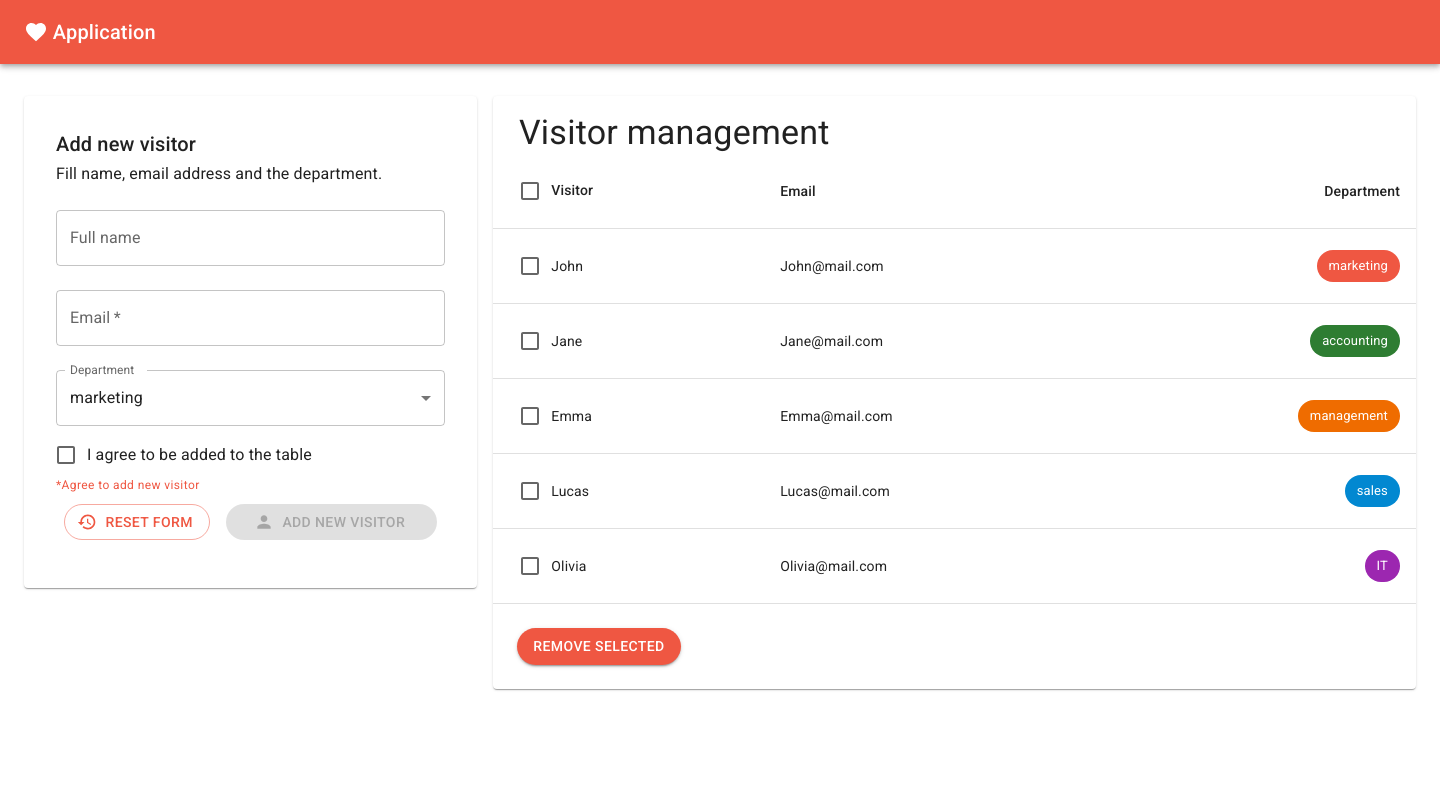
Test: On initial visit, When the form is not filled, it › When the checkbox is checked, it should enable ADD VISITOR BUTTON and hide the agree warning
Step 1. Check the checkbox named "isAgreementChecked" → (66, 455), box top-left (45, 434), bottom-right (87, 476)
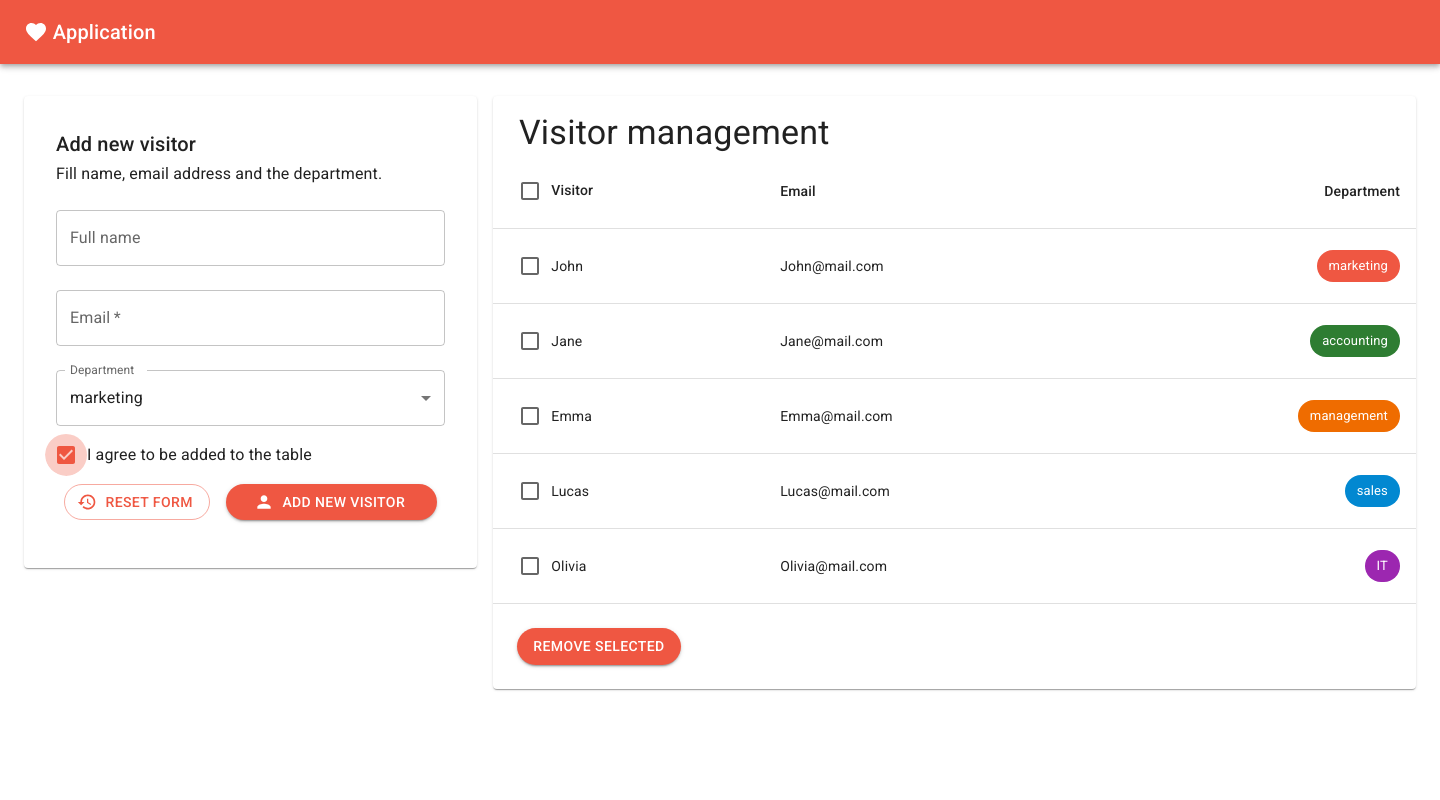
Expected: the element with test id "add-visitor-button" is enabled
Now the text with test id "check-to-submit-warning" is gone
